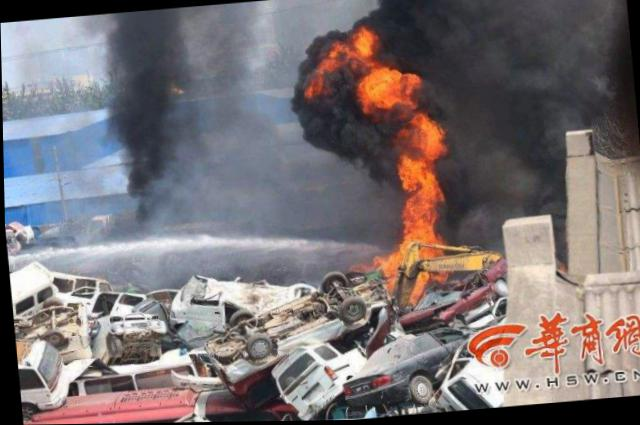fire: (308, 19, 477, 305)
